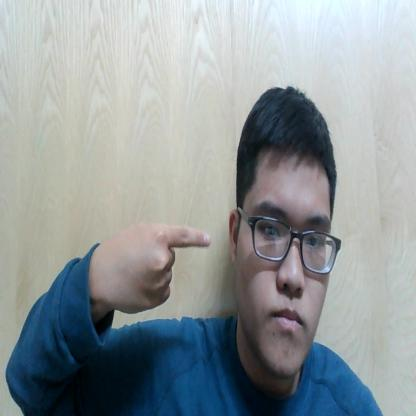left: (101, 206, 212, 328)
